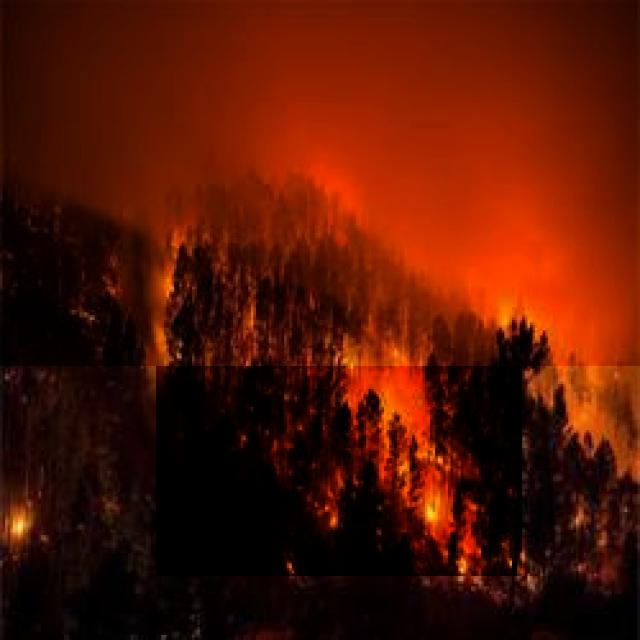Fire: (156, 224, 522, 576)
Smoke: (0, 0, 640, 366)
